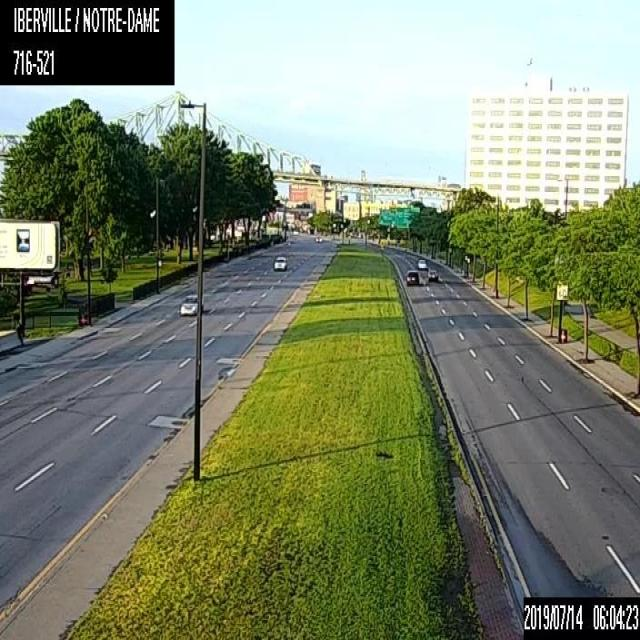vehicle: (178, 292, 203, 316), (404, 270, 418, 286), (273, 253, 286, 270), (427, 268, 437, 280), (416, 258, 426, 269), (314, 234, 322, 242)
